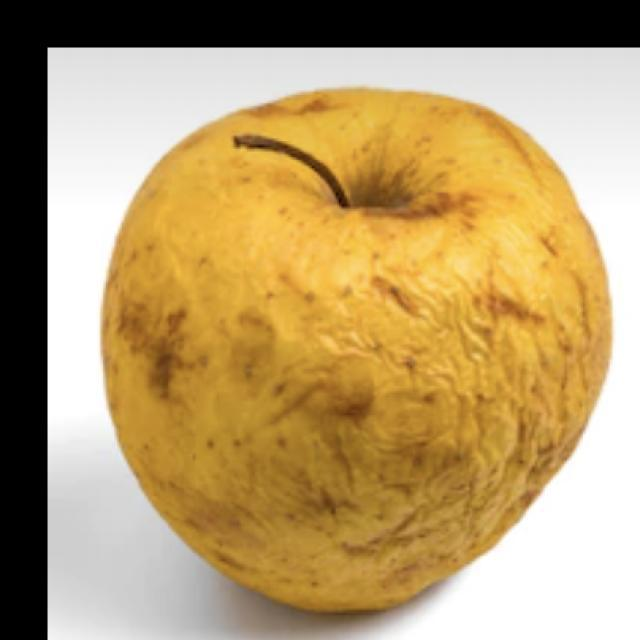Rotten: (120, 93, 605, 607)
